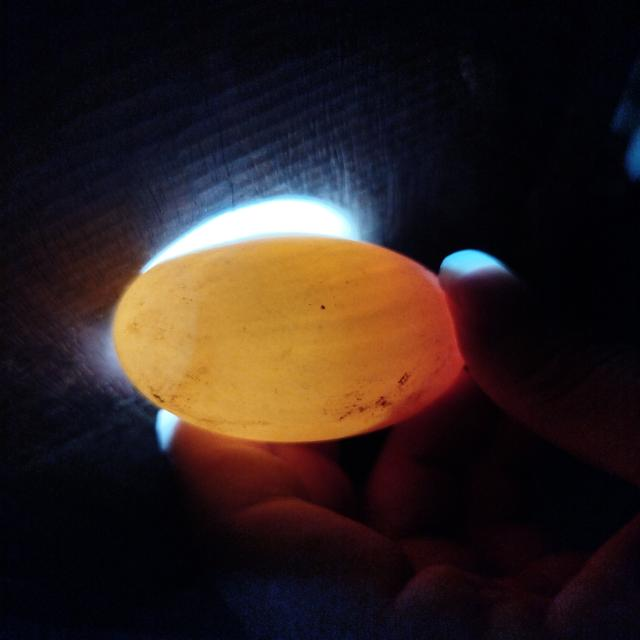Camara de Ar: (114, 256, 200, 392)
Gema Quebrada: (368, 257, 459, 432)
